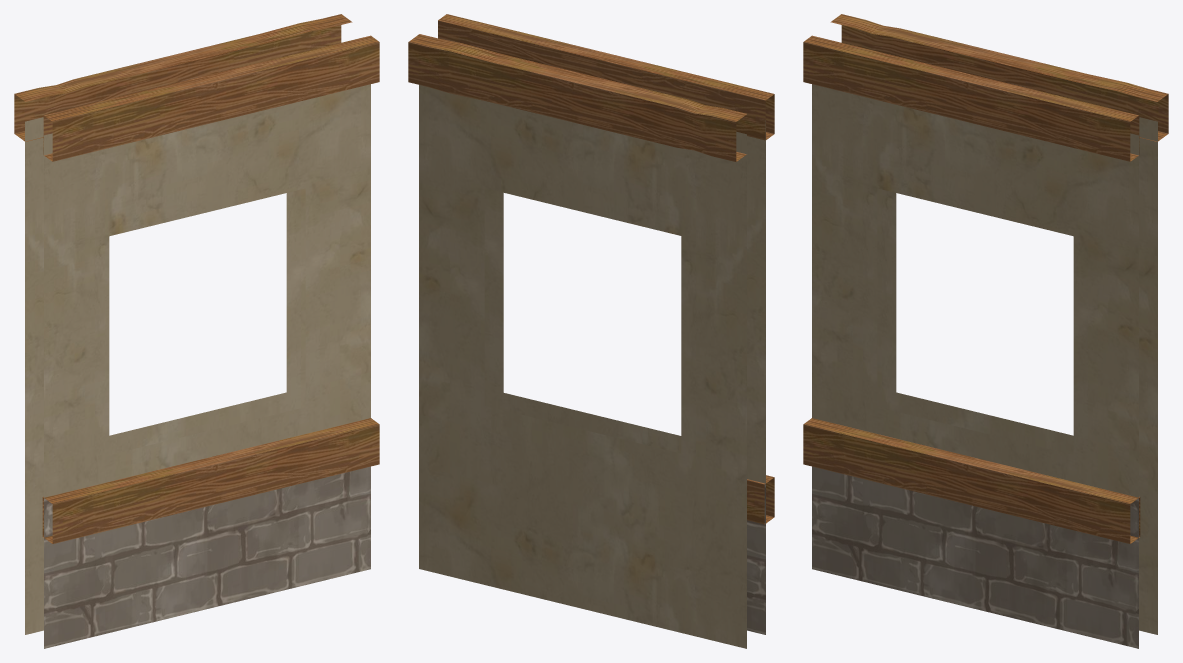
Rendered from Wall_Plaster_Window_Wide_Flat.gltf.
3 views of the same model, side by side, from view 1: azimuth 30°, elevation 25°; view 2: azimuth 150°, elevation 25°; view 3: azimuth 330°, elevation 25° (orthographic).
Visible parts, largest first — view 1: Wall_Plaster_Window_Wide_Flat; view 2: Wall_Plaster_Window_Wide_Flat; view 3: Wall_Plaster_Window_Wide_Flat.
Boxes of the visible parts, left/top/right/bottom form: Wall_Plaster_Window_Wide_Flat: left=14, top=14, right=379, bottom=648; Wall_Plaster_Window_Wide_Flat: left=408, top=14, right=774, bottom=648; Wall_Plaster_Window_Wide_Flat: left=803, top=14, right=1168, bottom=648.
Bounding box in the file's own units: 2 × 3.12 × 0.4065.
Materials: 3 (3 with a texture image).
